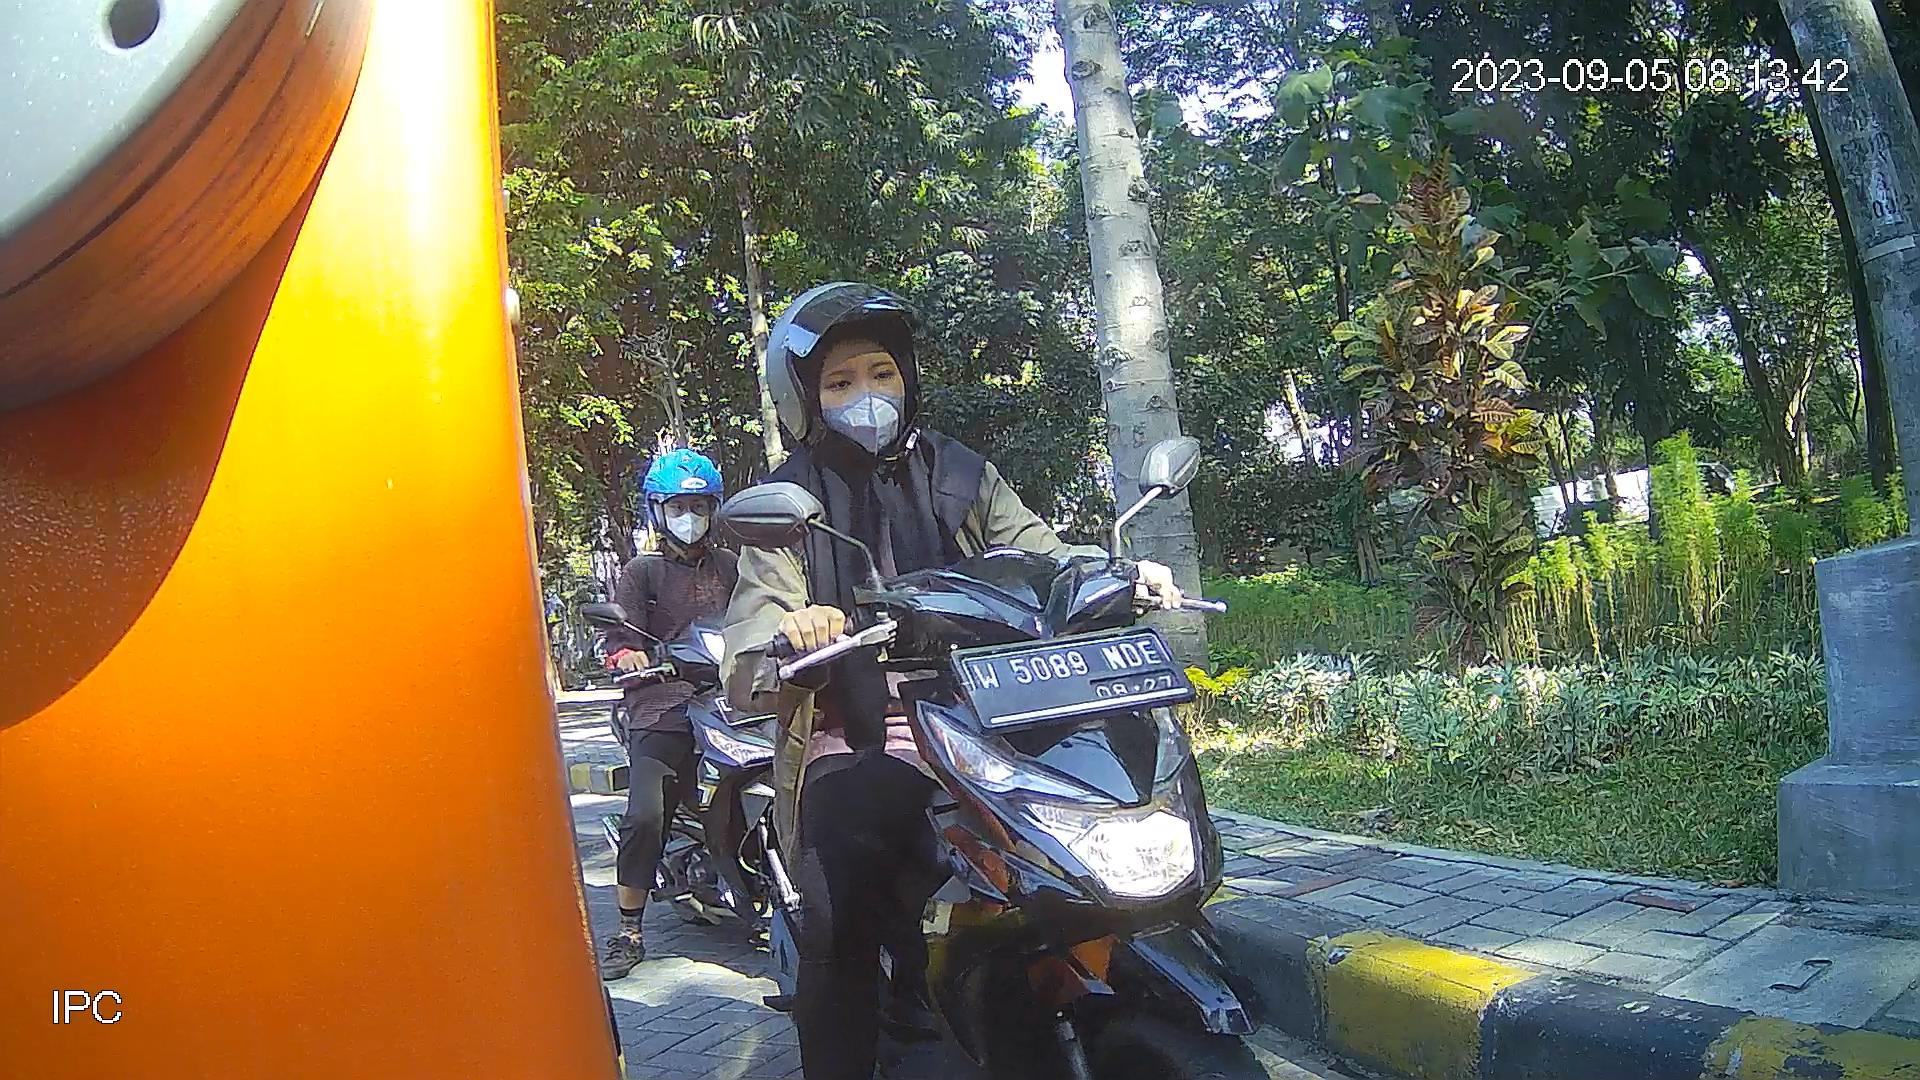plat: (947, 622, 1199, 733)
